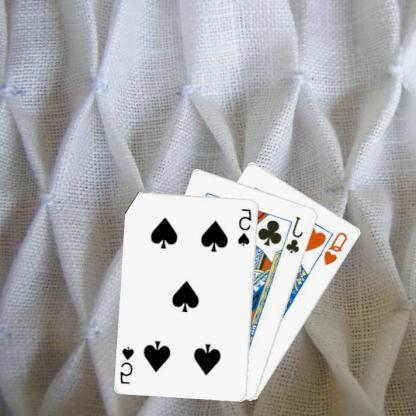5S: (119, 343, 137, 385), (237, 206, 255, 247)
JC: (285, 213, 307, 255)
QH: (323, 229, 351, 266)
